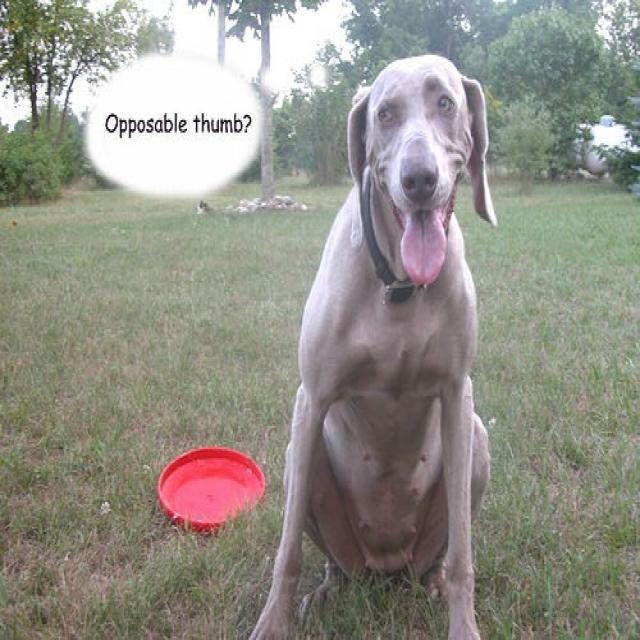dog: (247, 50, 495, 638)
